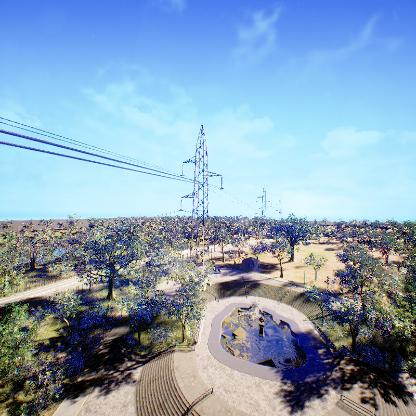tower: (177, 121, 224, 273)
